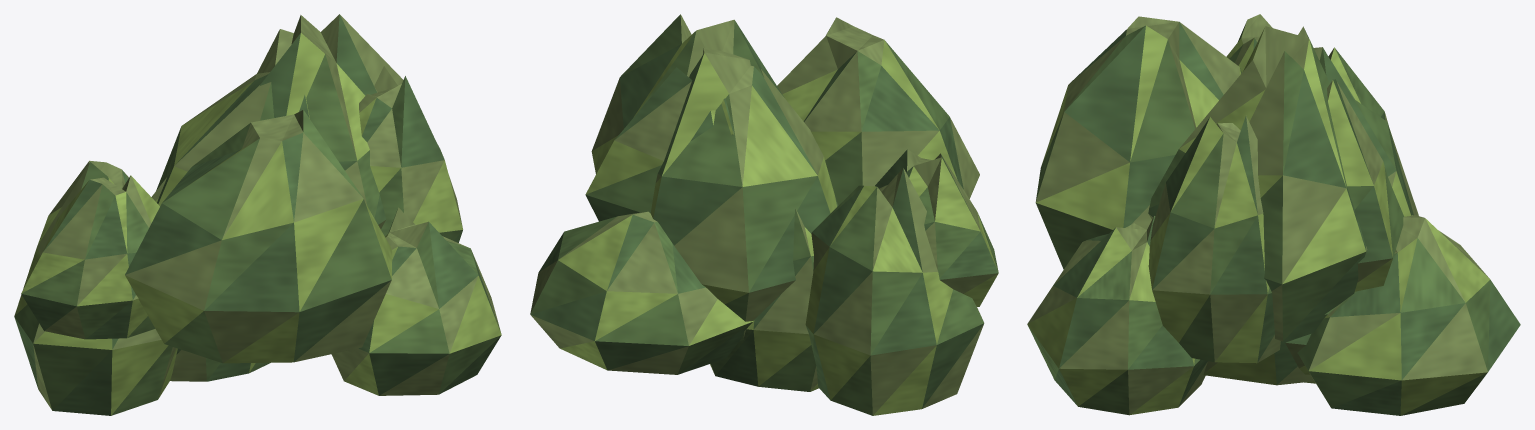
The model's file is bush_leafy_02.fbx.
3 views of the same model, side by side, from view 1: azimuth 30°, elevation 25°; view 2: azimuth 150°, elevation 25°; view 3: azimuth 270°, elevation 25° (orthographic). The views are drawn at different scales.
Visible parts, largest first — view 1: bush_leafy_02; view 2: bush_leafy_02; view 3: bush_leafy_02.
Boxes of the visible parts, bbox=[...] form: bush_leafy_02: bbox=[14, 14, 501, 415]; bush_leafy_02: bbox=[530, 14, 998, 415]; bush_leafy_02: bbox=[1027, 14, 1520, 415].
Size of the model in its own units: 162 by 121 by 150.
Materials: 1 (1 with a texture image).
